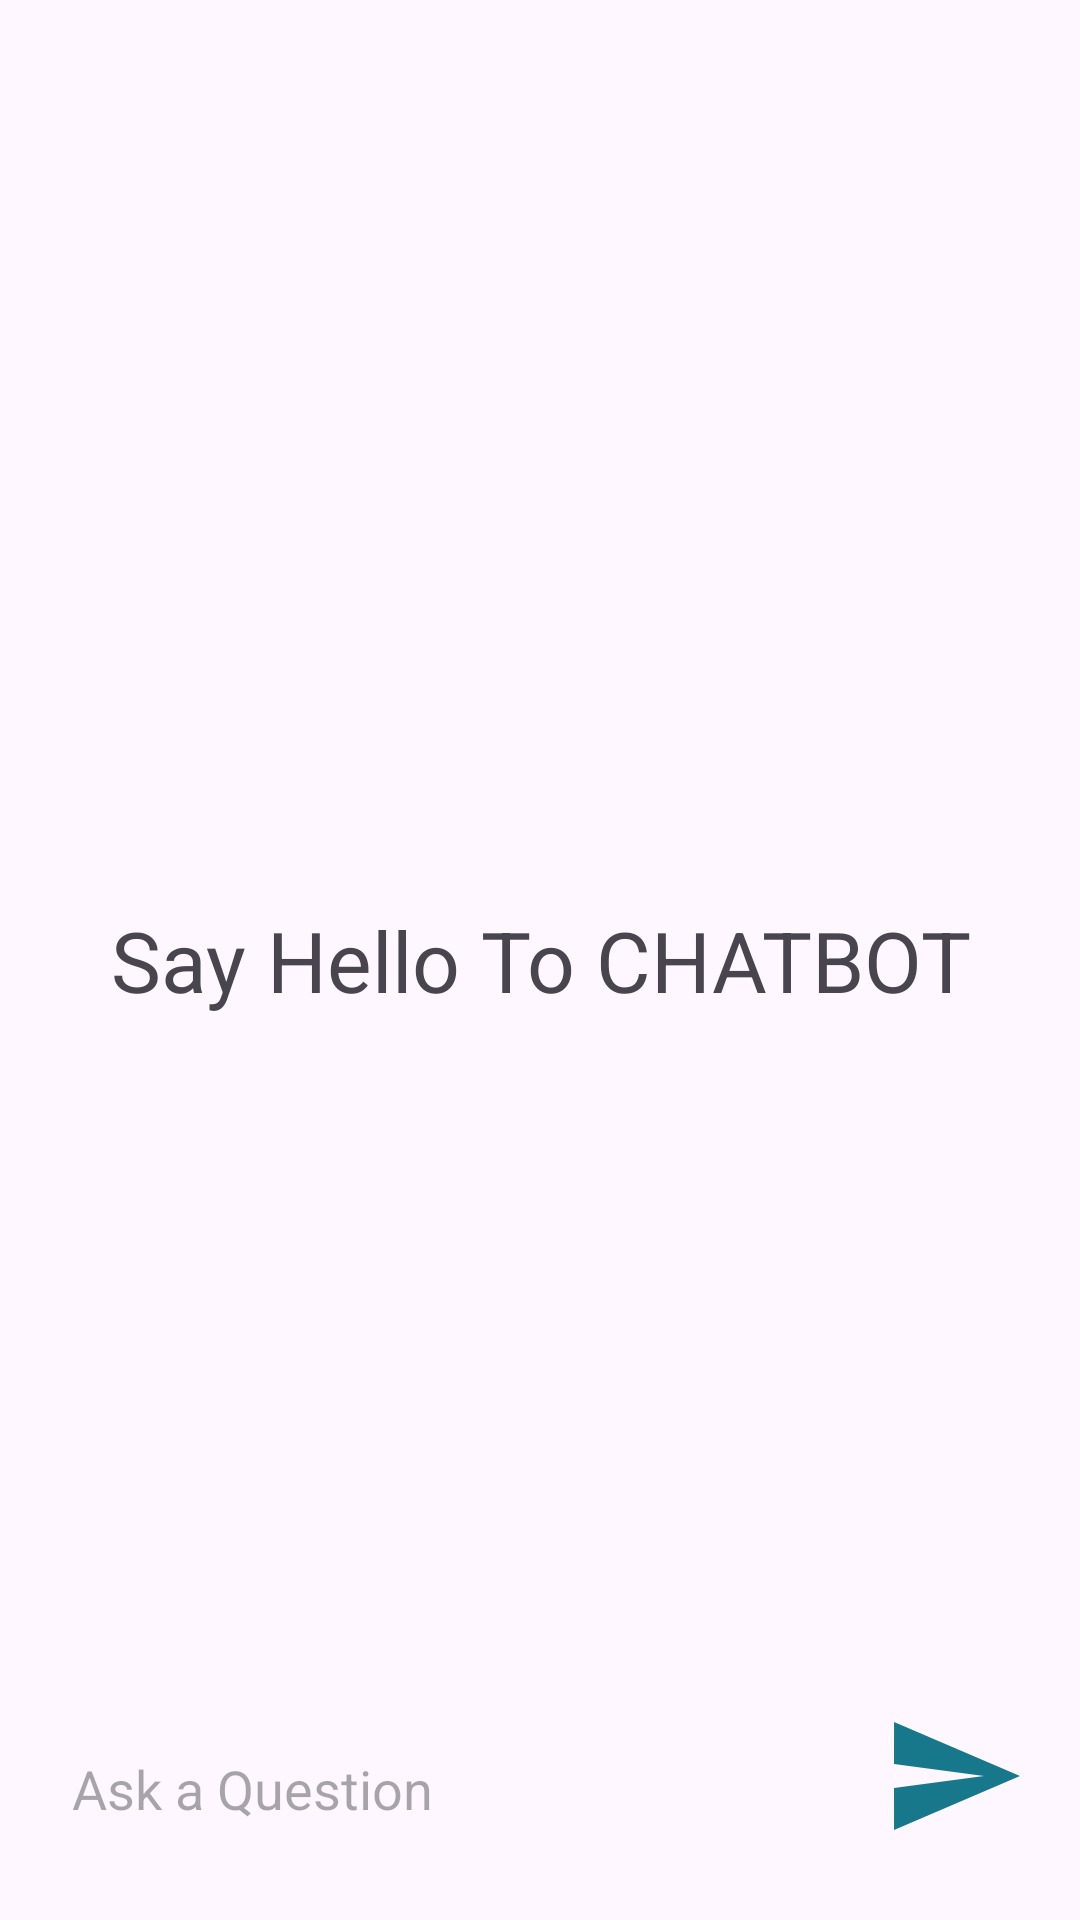

Icons on this 1080px x 1920px Android screen, each with its box as (left=x1, top=y1, right=x2, bottom=y2):
send: (left=894, top=1722, right=1020, bottom=1830)
